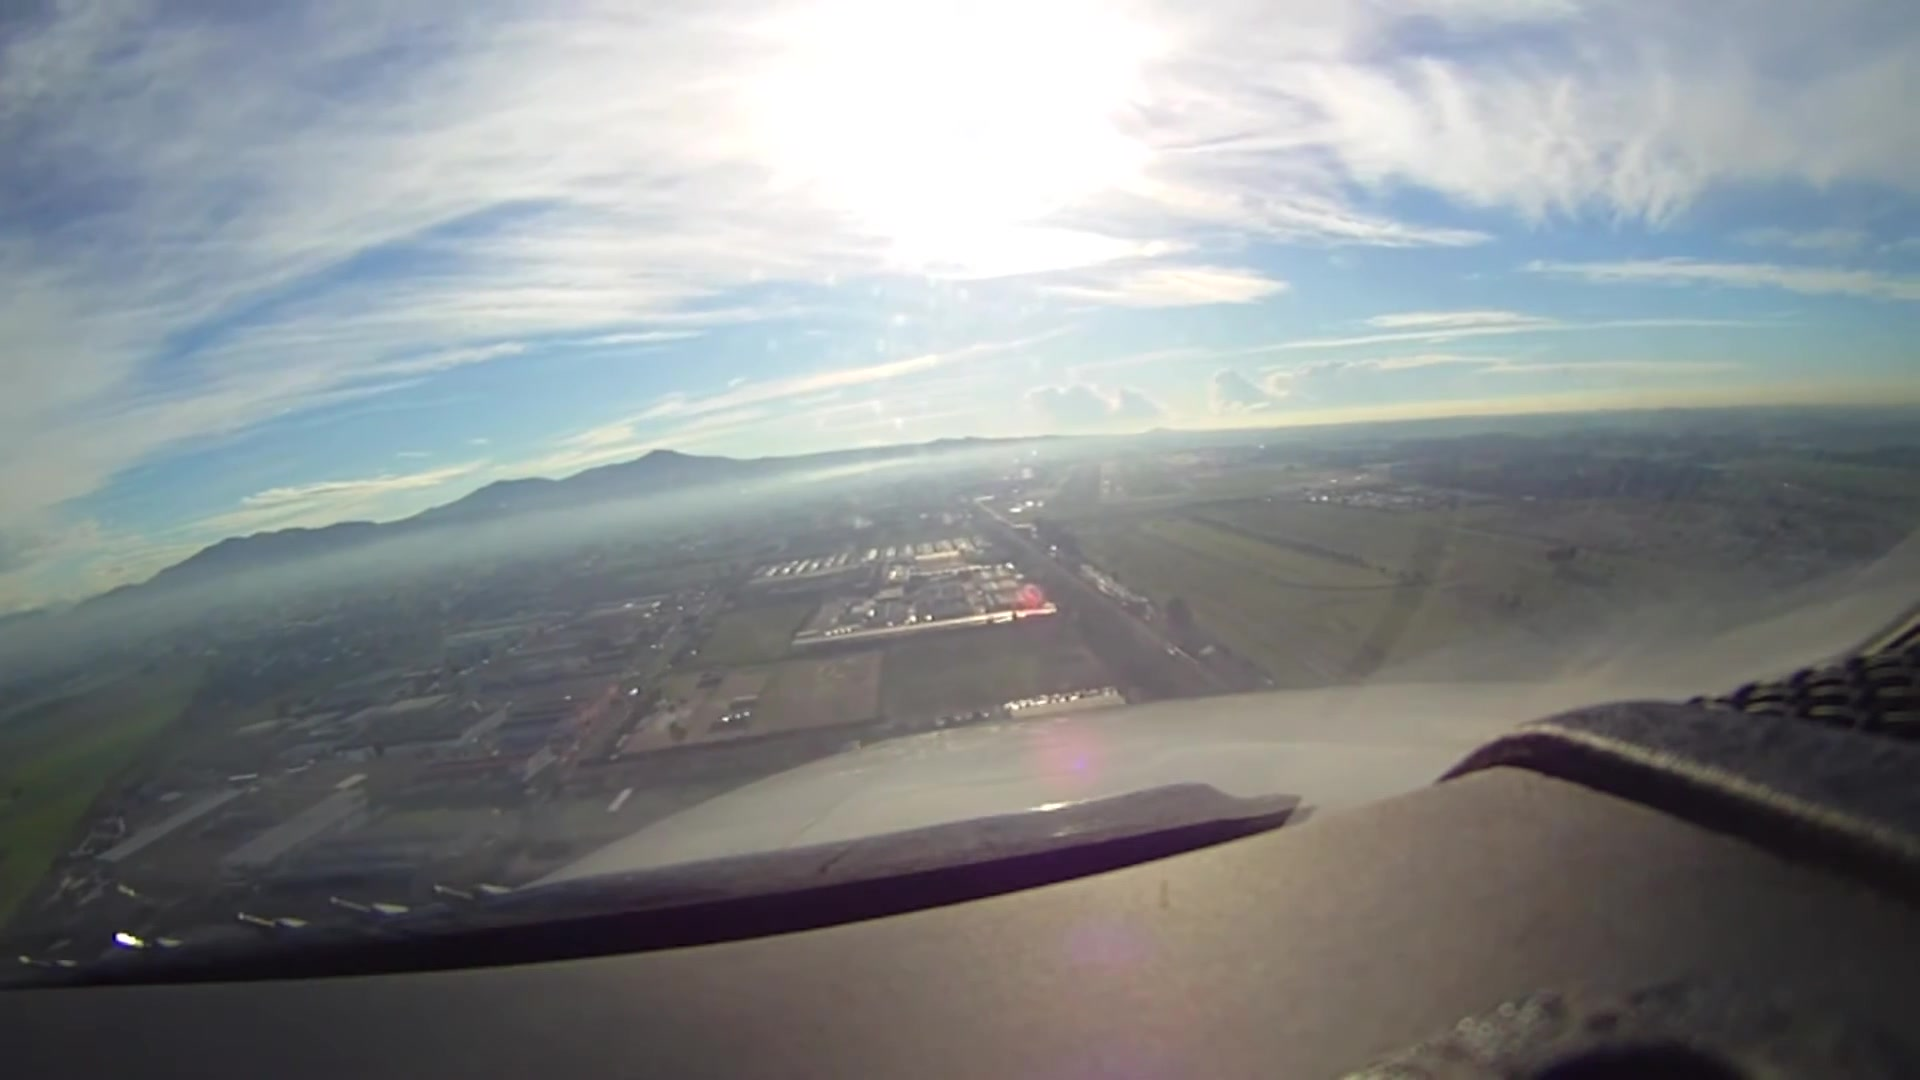runway: (1097, 460, 1130, 504)
